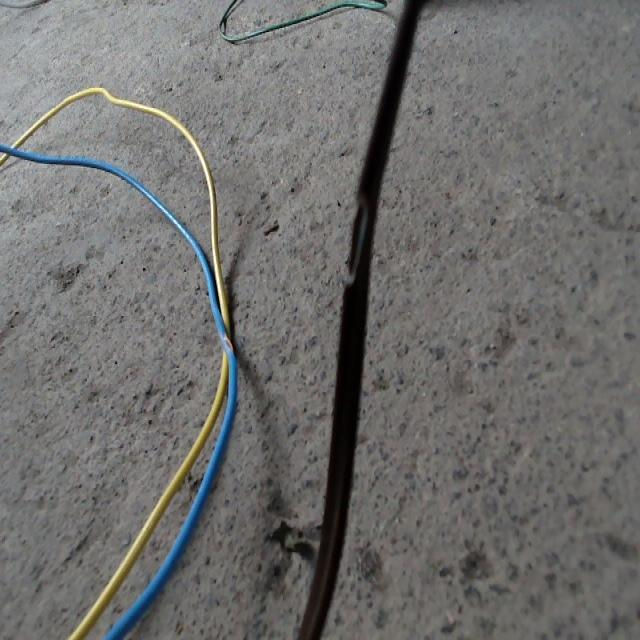-: (344, 196, 371, 288), (221, 332, 234, 353)
